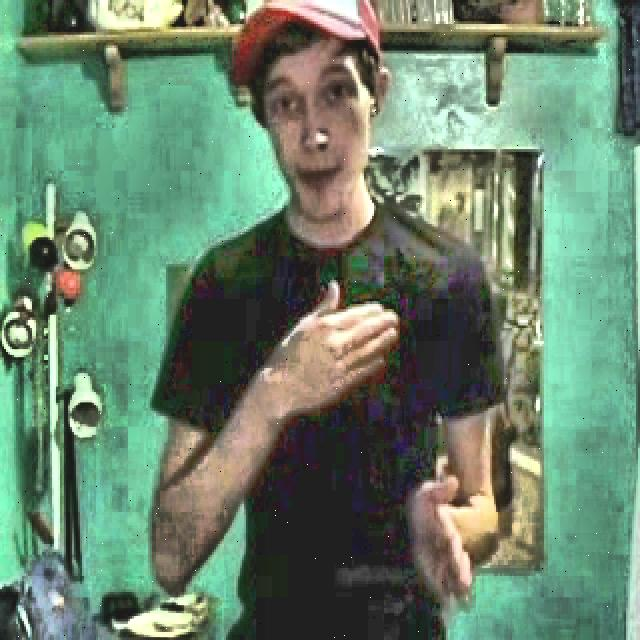F: (136, 8, 500, 637)
